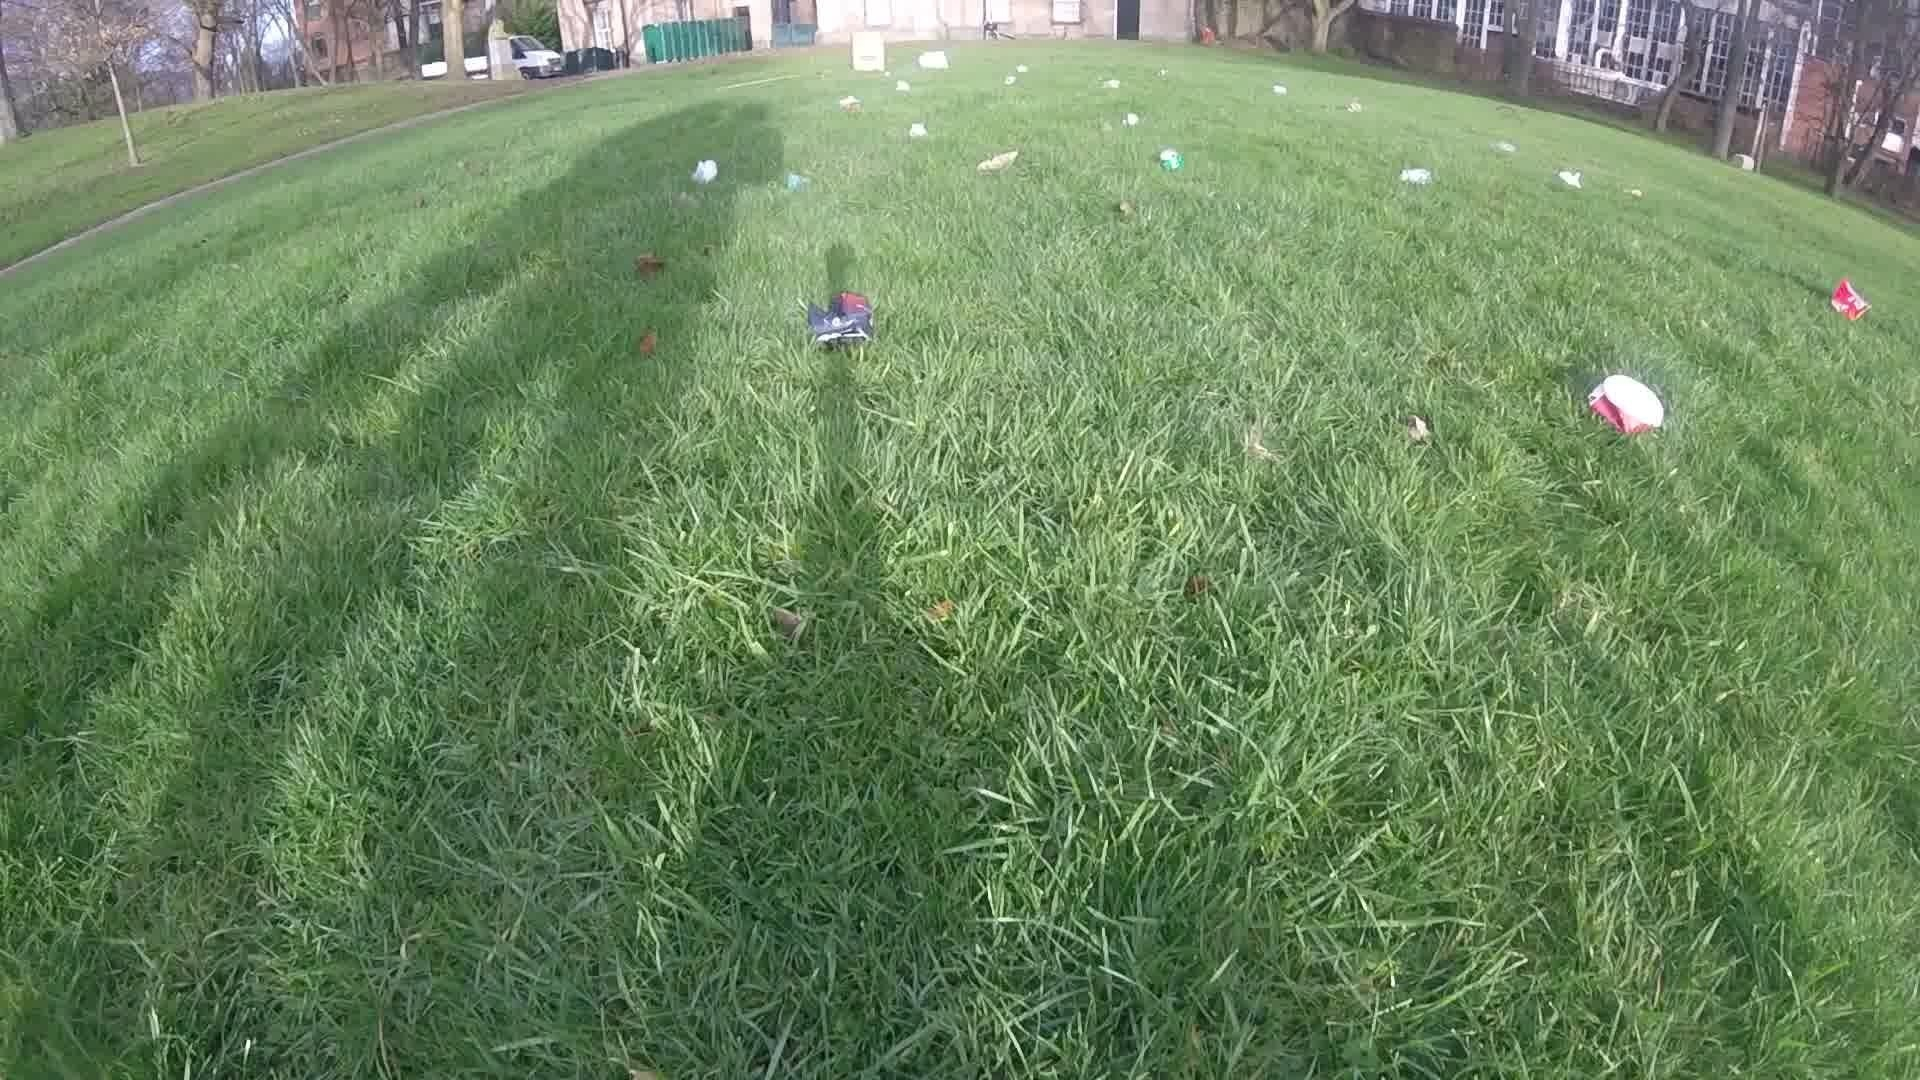litter: (1590, 375, 1668, 435), (804, 286, 874, 349), (1834, 280, 1871, 320), (852, 28, 887, 69), (688, 156, 723, 185), (980, 148, 1017, 173), (916, 47, 953, 69), (1399, 165, 1431, 185), (1156, 149, 1184, 171), (1557, 167, 1581, 191), (841, 90, 858, 113), (1101, 79, 1122, 94), (1491, 142, 1514, 156), (1344, 100, 1364, 115), (1124, 115, 1141, 129), (1000, 74, 1021, 84), (789, 173, 803, 187), (906, 125, 928, 135), (895, 78, 911, 90), (1271, 84, 1288, 95), (1629, 187, 1640, 198), (1019, 65, 1030, 73)
